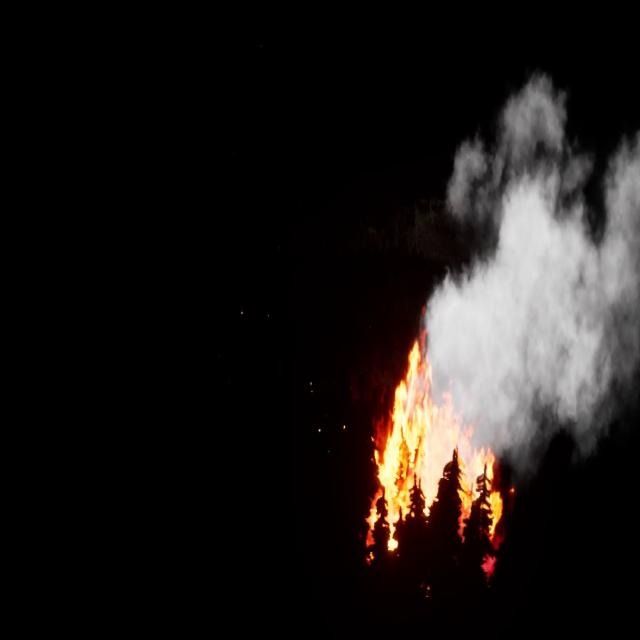fire: (362, 310, 502, 574)
smoke: (427, 73, 640, 447)
